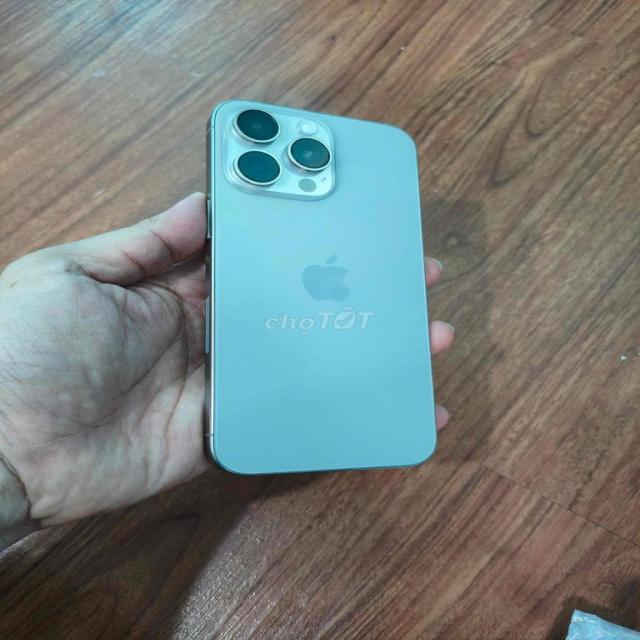gen_15: (188, 85, 452, 484)
